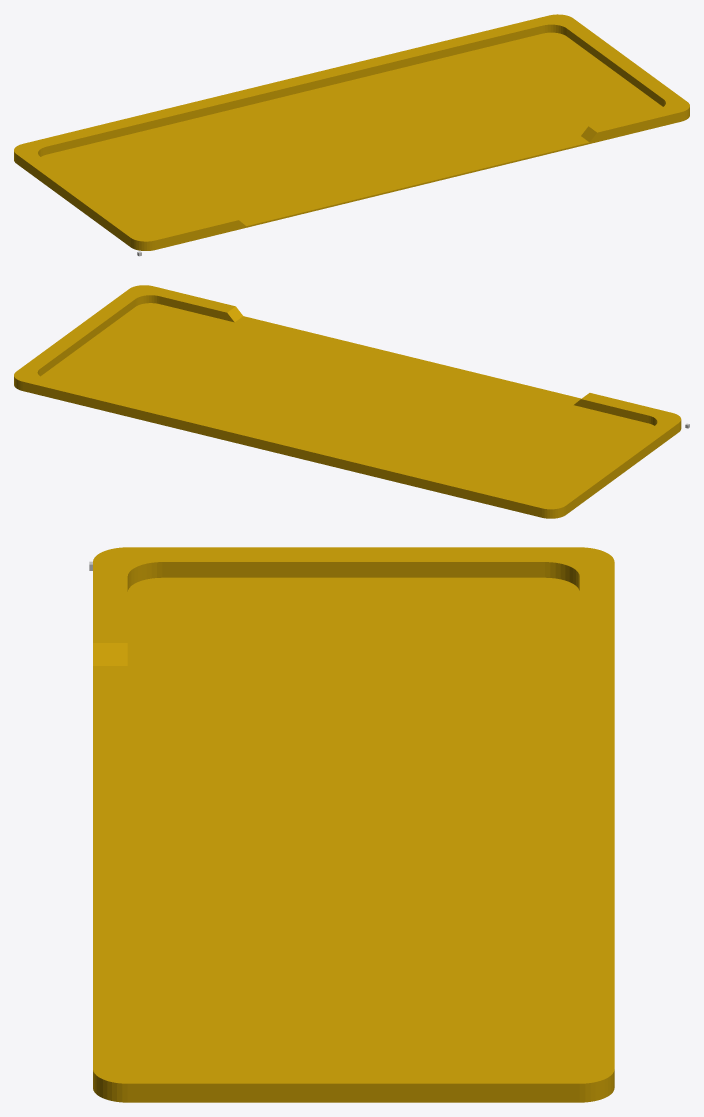
File: playerContainer4.fbx
3 renders of one model, top to bottom at view 1: azimuth 30°, elevation 25°; view 2: azimuth 150°, elevation 25°; view 3: azimuth 270°, elevation 25°, orthographic. The views are drawn at different scales.
Parts seen in each view (by area): view 1: playerContainer4; view 2: playerContainer4; view 3: playerContainer4.
Part boxes in pixels (x1,y1,x2,y2): playerContainer4: (14, 14, 689, 250); playerContainer4: (14, 285, 681, 518); playerContainer4: (93, 547, 614, 1102).
Bounding box in the file's own units: 36600 × 700 × 15100.
